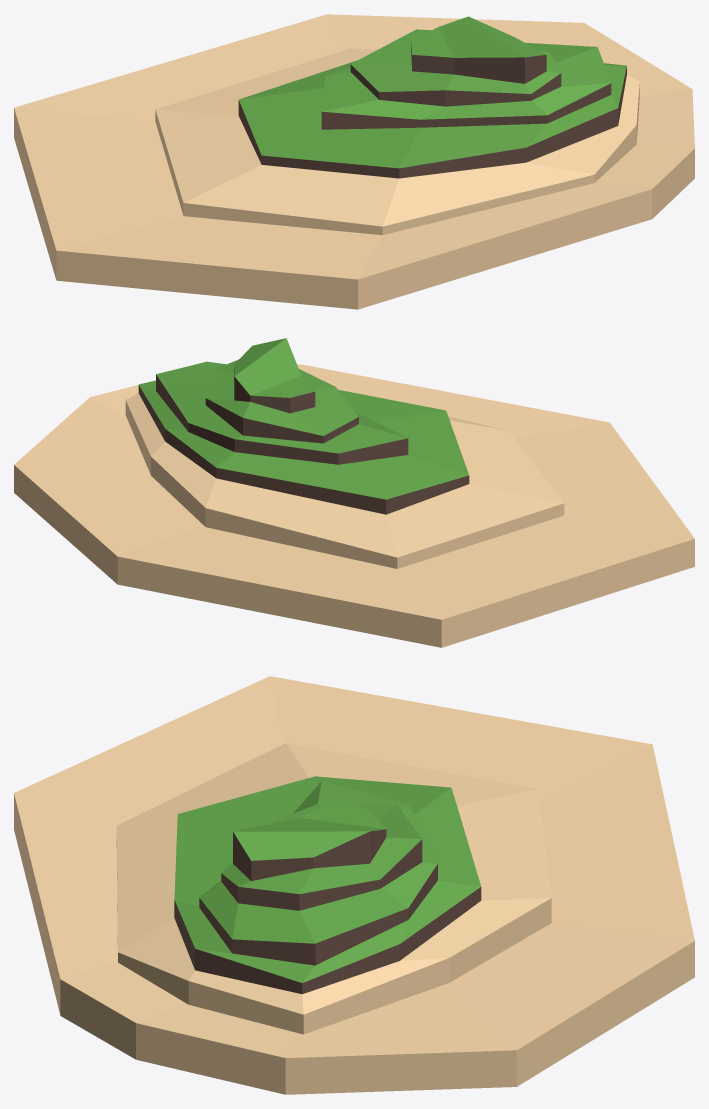
The picture shows the model from 3 angles, top to bottom: view 1: azimuth 30°, elevation 25°; view 2: azimuth 150°, elevation 25°; view 3: azimuth 270°, elevation 25°; orthographic projection. The views are drawn at different scales.
Parts seen in each view (by area): view 1: ile2; view 2: ile2; view 3: ile2.
Boxes of the visible parts, x1,y1,x2,y2 form: ile2: [14, 14, 694, 309]; ile2: [14, 338, 694, 647]; ile2: [14, 676, 694, 1094].
Size of the model in its own units: 1992 by 366 by 1501.
